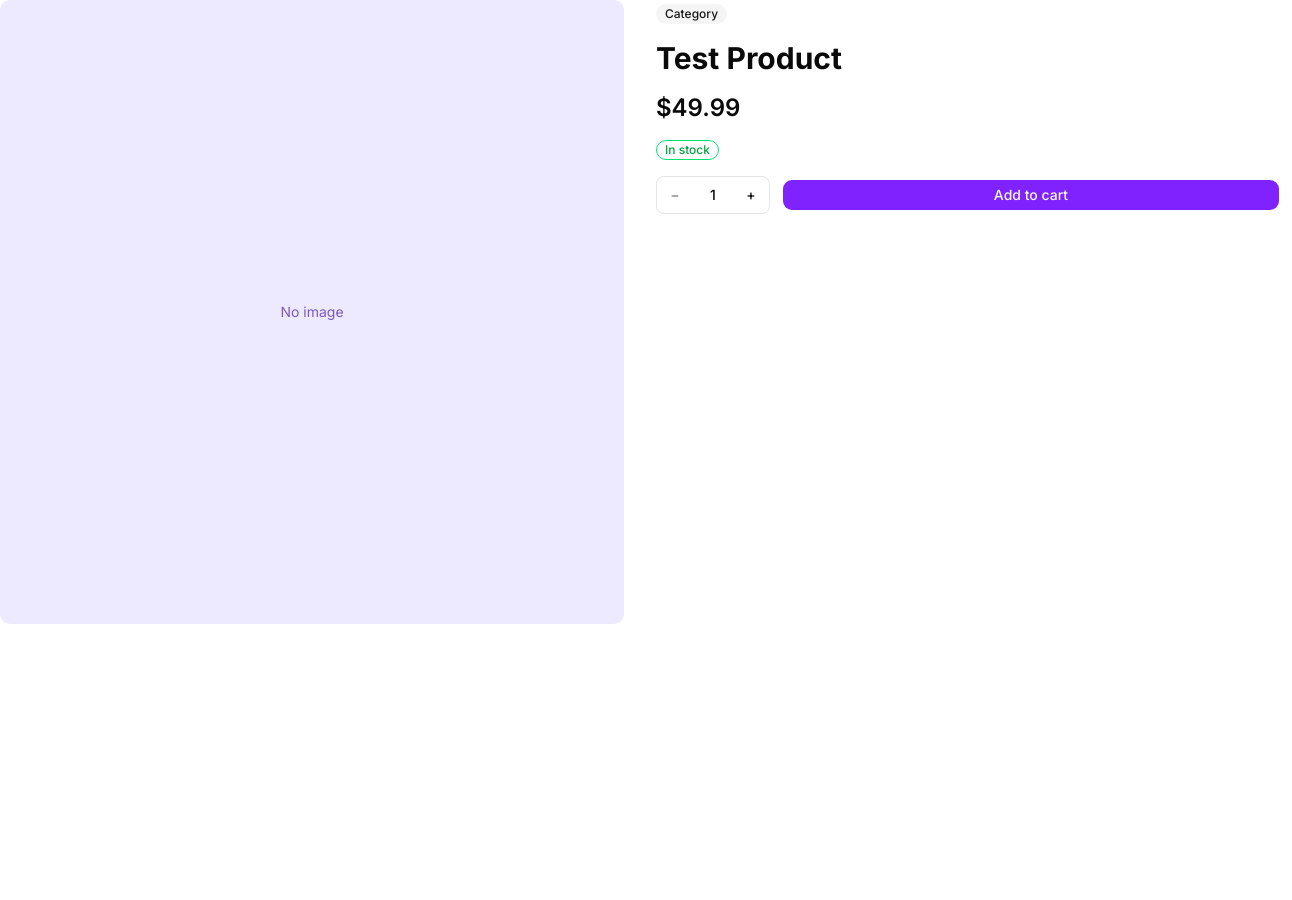
Test: ProductDetail › quantity stepper › increments quantity when '+' is clicked
Step 1. Click the button named "increase quantity" → (751, 195), box [733,177,769,213]
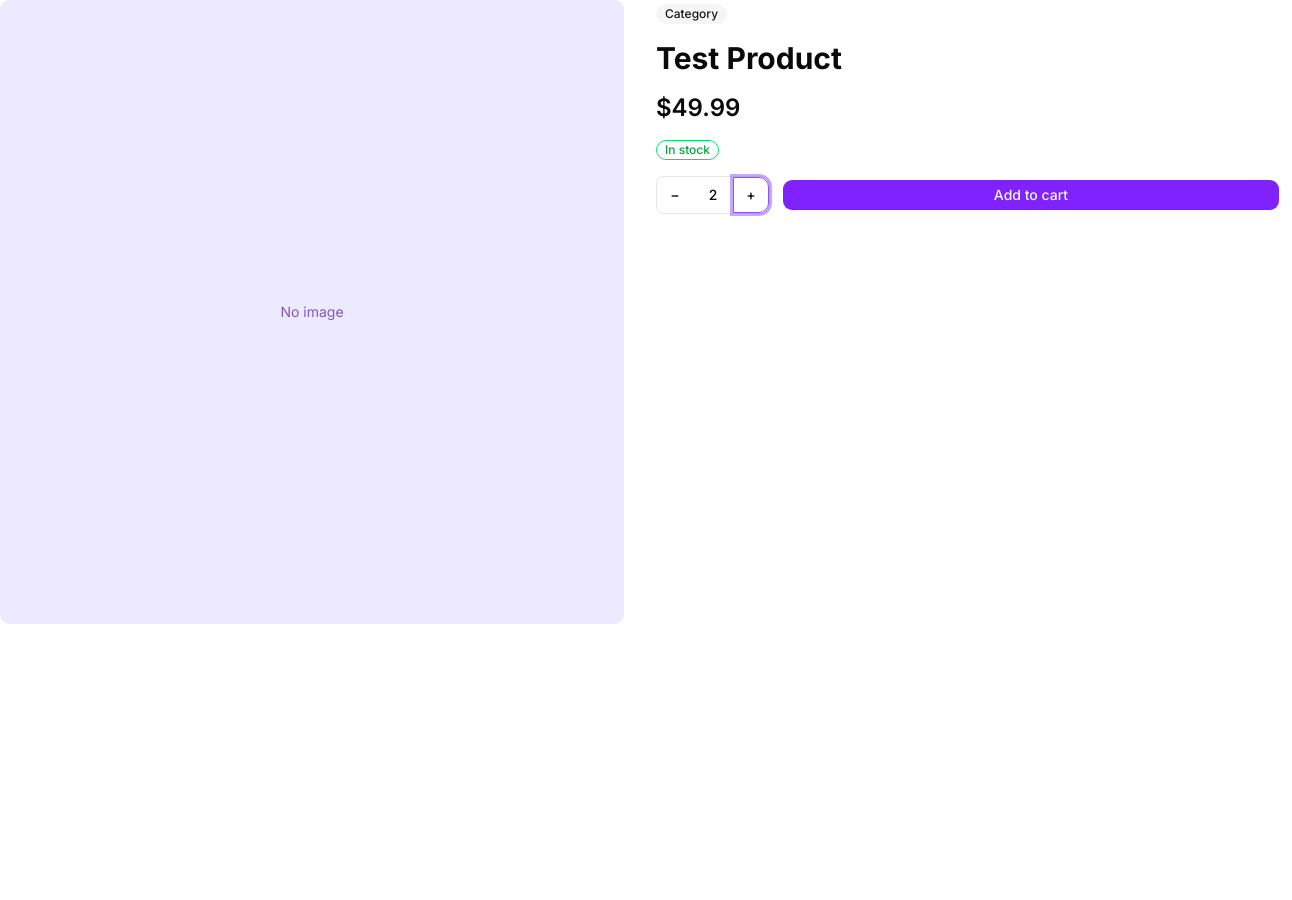
Now the text "2" is shown, box [709,186,717,203]
